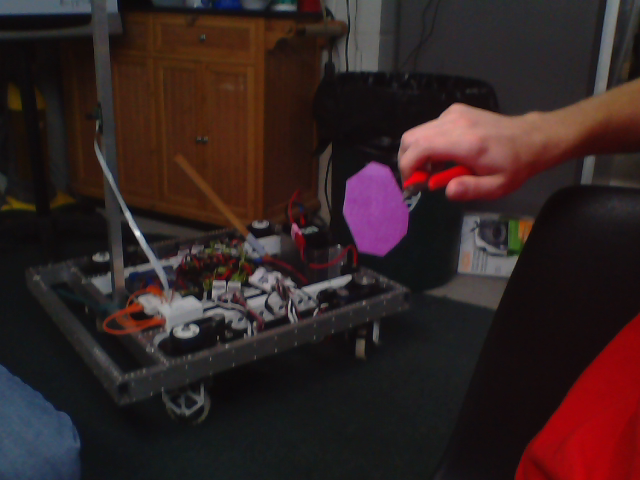ball: (343, 160, 410, 257)
